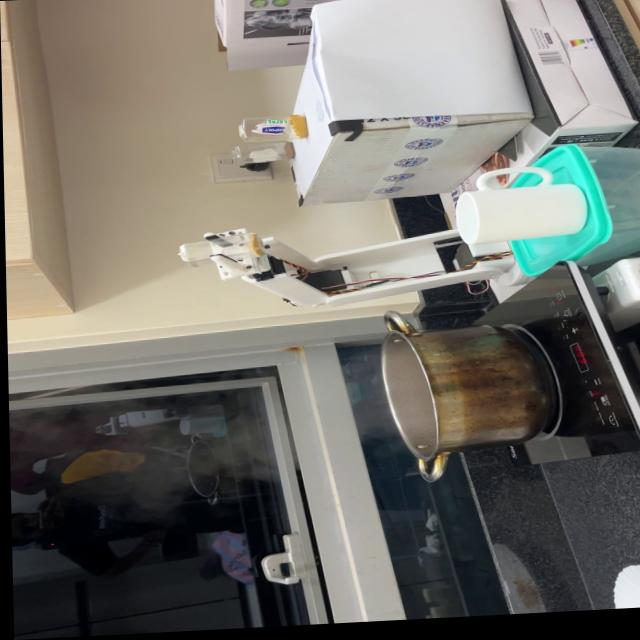cooking_pot: (377, 309, 551, 493)
curry_powder: (288, 116, 308, 141)
garlic_powder: (246, 236, 267, 261)
maggie_open: (278, 146, 293, 162)
